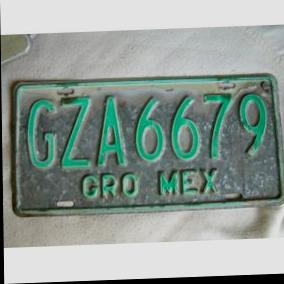License_Plate: (12, 71, 279, 212)
